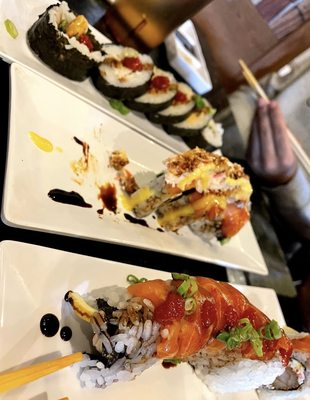sandwich: (50, 274, 301, 398)
sushi: (26, 1, 101, 81)
